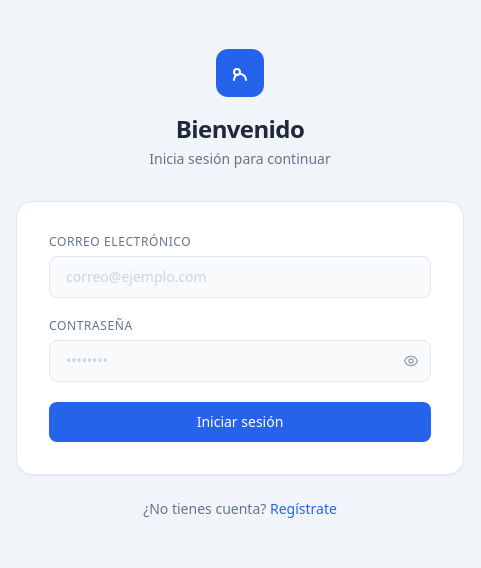
it: [E2E] Autenticación — flujo crítico de acceso al sistema › Login con credenciales inválidas muestra el error del servidor y no redirige
Type "paciente@rednorte.cl" into the field with id "email".
click(240, 277); type("paciente@rednorte.cl")  # box x1=49 y1=256 x2=431 y2=298
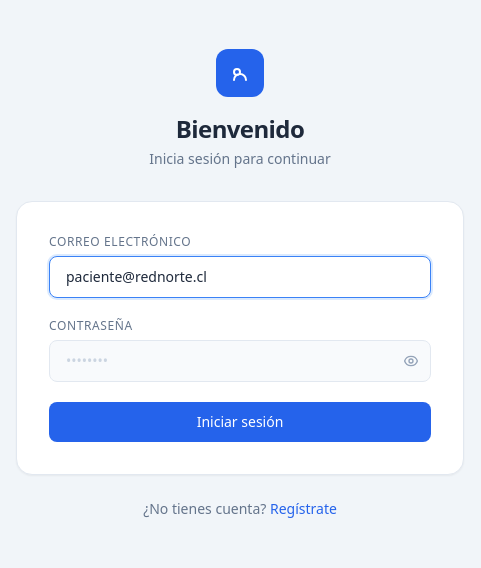
Type "claveIncorrecta" into the password field labelled "Contraseña".
click(240, 361); type("claveIncorrecta")  # box x1=49 y1=340 x2=431 y2=382
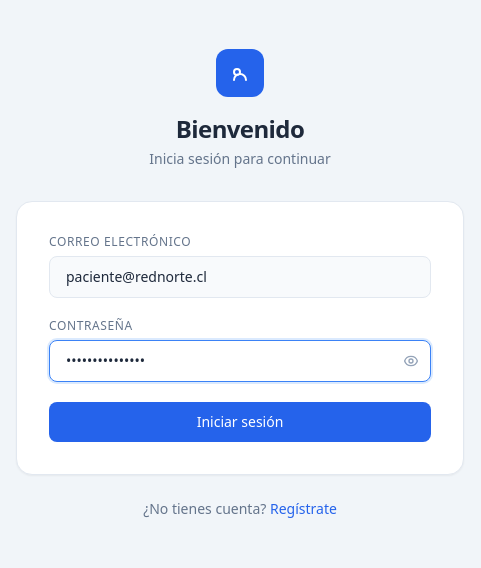
Click the button "Iniciar sesión".
click(240, 422)  # box x1=49 y1=402 x2=431 y2=442
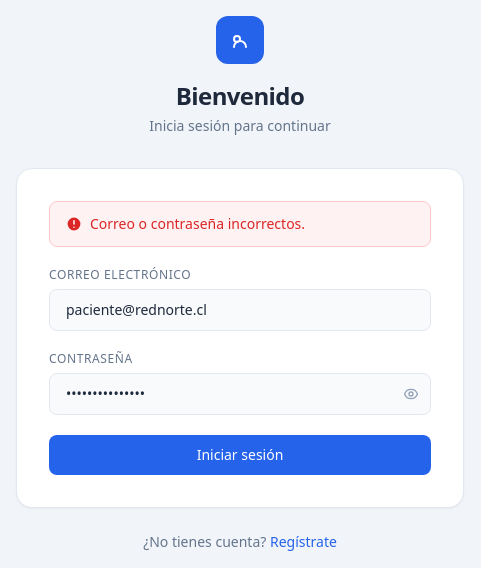
Now the text "Correo o contraseña incorrectos." is shown, box x1=49 y1=201 x2=431 y2=247
